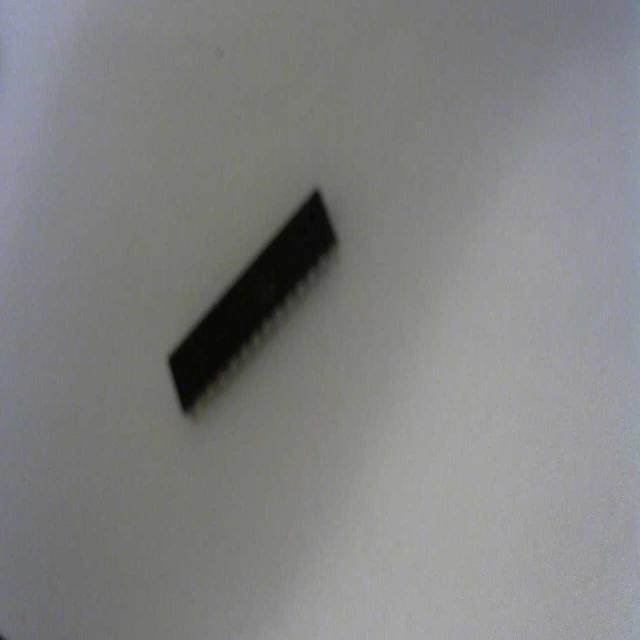atmega: (165, 184, 340, 419)
